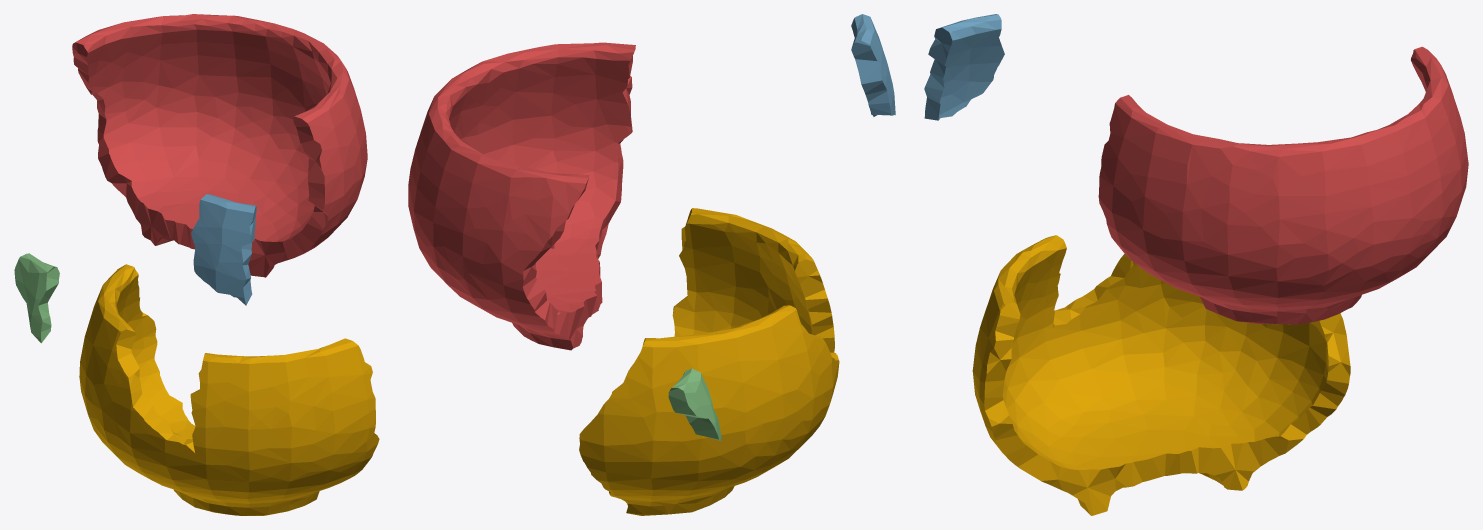
Rendered from fractured_47_4pcs_transformed.glb.
3 renders of one model, left to right at view 1: azimuth 30°, elevation 25°; view 2: azimuth 150°, elevation 25°; view 3: azimuth 270°, elevation 25°, orthographic. The views are drawn at different scales.
Visible parts, largest first — view 1: piece_1.obj, piece_0.obj, piece_2.obj, piece_3.obj; view 2: piece_1.obj, piece_0.obj, piece_2.obj, piece_3.obj; view 3: piece_0.obj, piece_1.obj, piece_2.obj.
Boxes of the visible parts, left/top/right/bottom form: piece_1.obj: left=72, top=14, right=367, bottom=277; piece_0.obj: left=79, top=264, right=379, bottom=515; piece_2.obj: left=191, top=194, right=256, bottom=305; piece_3.obj: left=14, top=253, right=59, bottom=343; piece_1.obj: left=408, top=42, right=635, bottom=350; piece_0.obj: left=579, top=208, right=839, bottom=515; piece_2.obj: left=851, top=14, right=895, bottom=116; piece_3.obj: left=668, top=368, right=721, bottom=440; piece_0.obj: left=972, top=235, right=1350, bottom=515; piece_1.obj: left=1098, top=46, right=1468, bottom=324; piece_2.obj: left=924, top=14, right=1004, bottom=120.
Bounding box in the file's own units: 0.9997 × 1.21 × 1.43.
